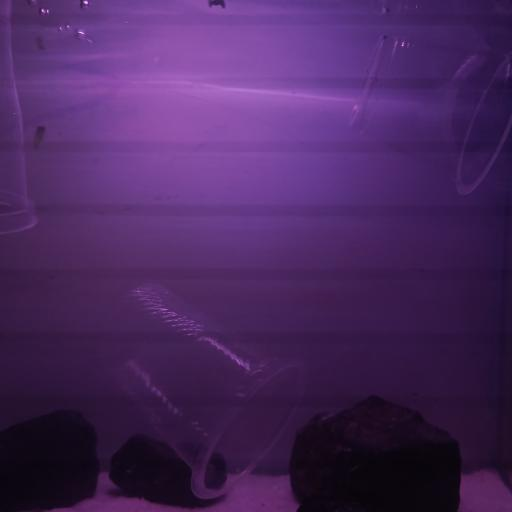plastic_cup: (86, 280, 310, 498), (346, 31, 512, 199), (2, 2, 40, 236)
